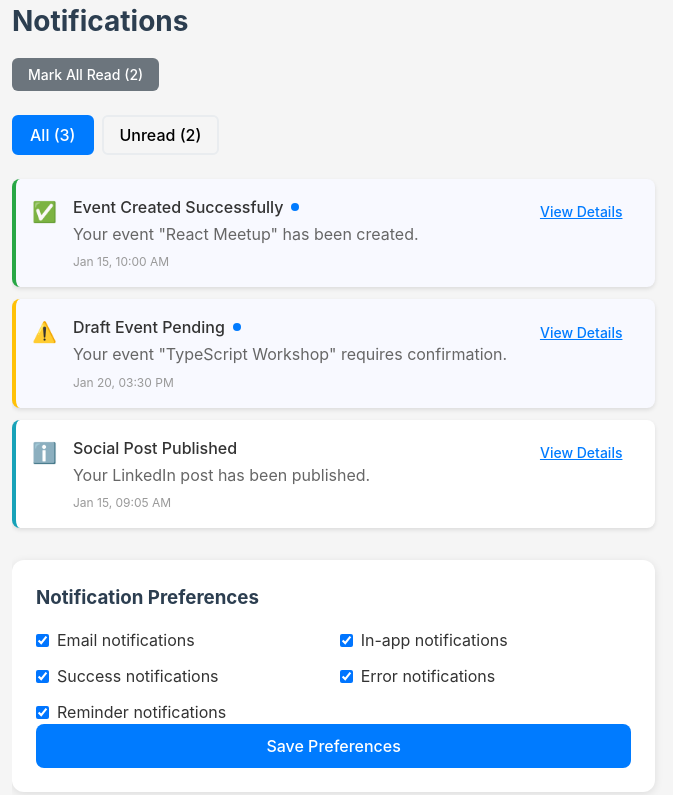
Scenario: NotificationCenter Component › handles save preferences API error gracefully
Click the button "Save Preferences": click(334, 746) top-left (36, 724), bottom-right (631, 768)
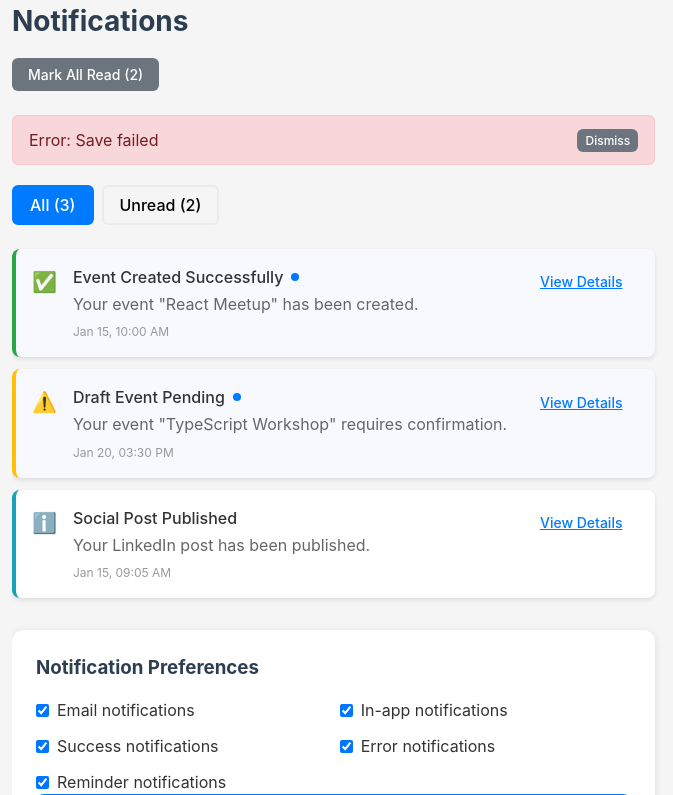
Result: the text "Error: Save failed" is shown at top-left (29, 130), bottom-right (158, 150)
